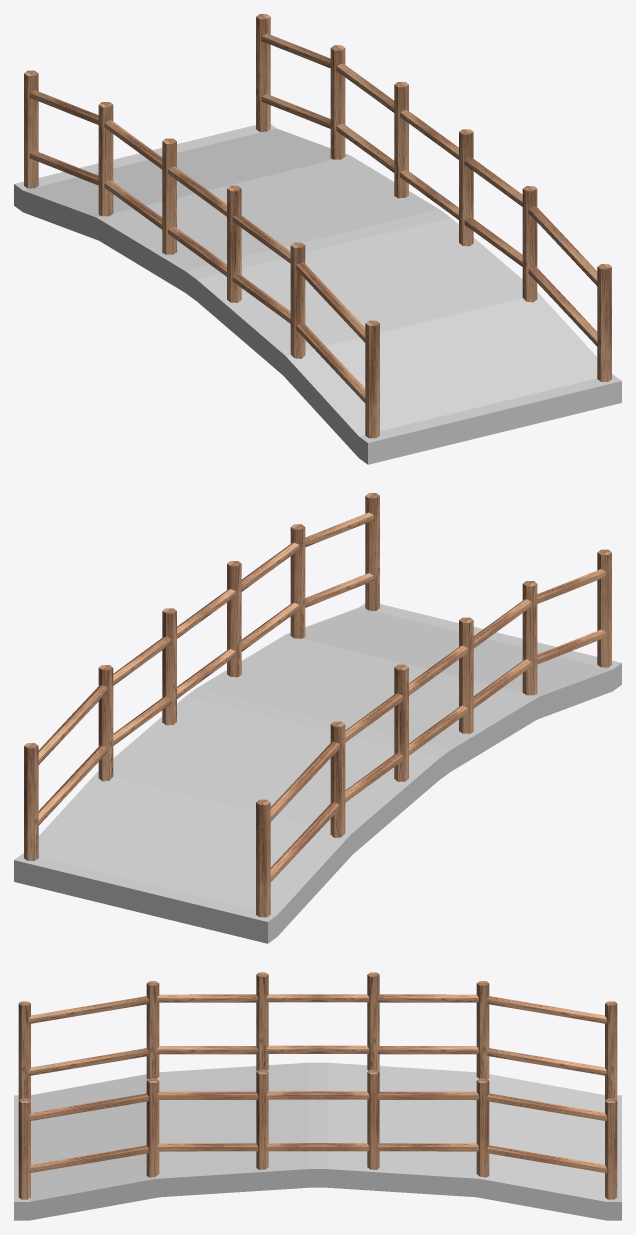
File: jembatan.fbx
The picture shows the model from 3 angles, top to bottom: view 1: azimuth 30°, elevation 25°; view 2: azimuth 150°, elevation 25°; view 3: azimuth 270°, elevation 25°; orthographic projection. The views are drawn at different scales.
Visible parts, largest first — view 1: Cube, Cylinder; view 2: Cube, Cylinder; view 3: Cube, Cylinder.
Part boxes in pixels (box(x1,y1,x2,y2)): Cube: box(14, 124, 621, 464); Cylinder: box(24, 14, 611, 438); Cube: box(14, 603, 621, 943); Cylinder: box(24, 493, 611, 917); Cube: box(14, 1062, 621, 1220); Cylinder: box(18, 972, 617, 1199).
Size of the model in its own units: 281 by 177 by 679.
